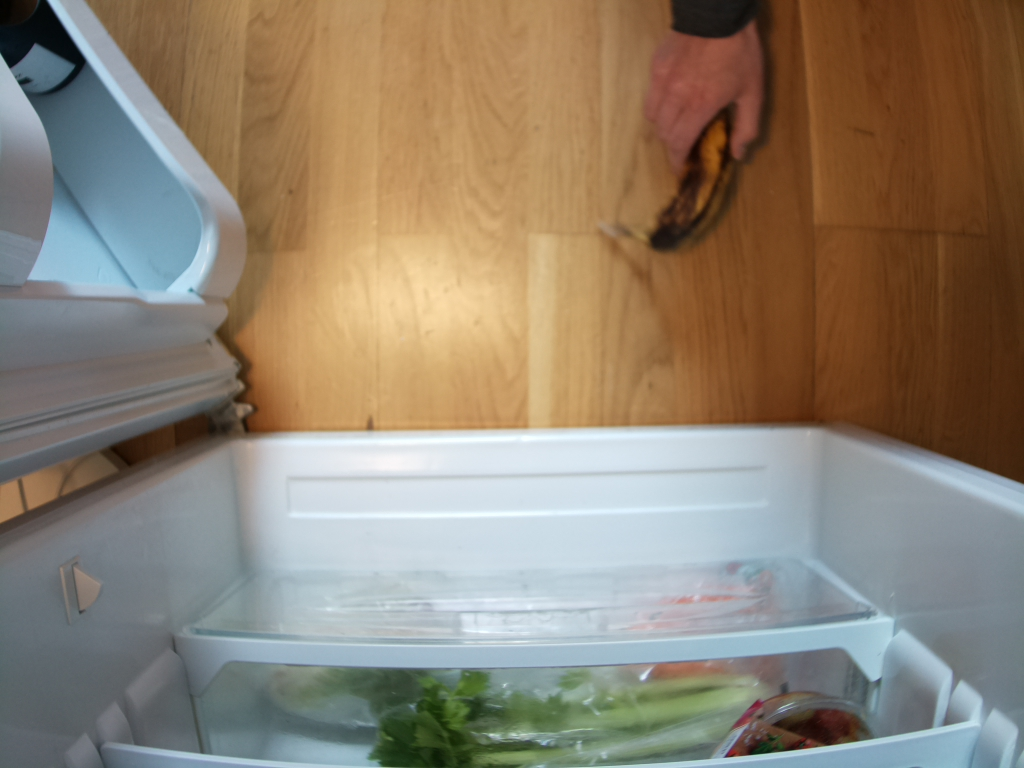banana-overripe: (598, 112, 742, 256)
